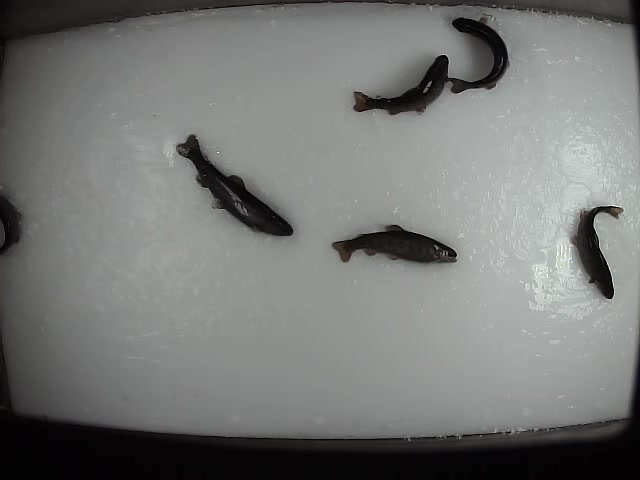fish: (172, 132, 296, 237), (350, 54, 451, 119), (569, 201, 628, 300), (329, 224, 463, 266), (447, 15, 513, 97)
